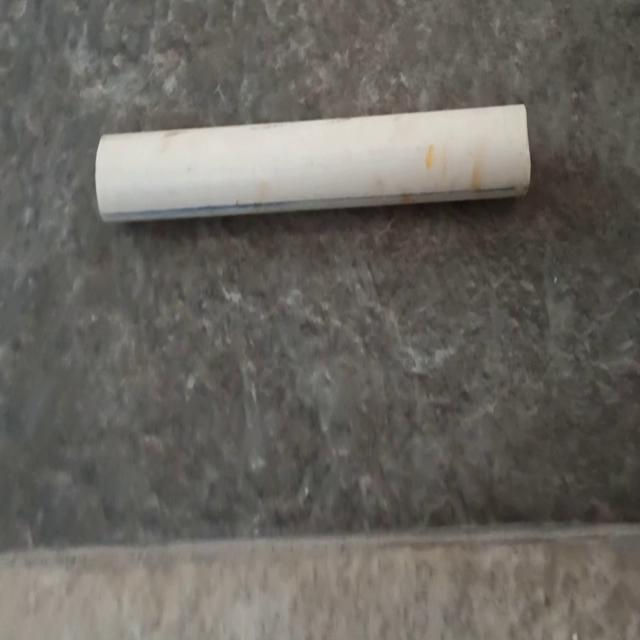Cube: (94, 101, 532, 223)
